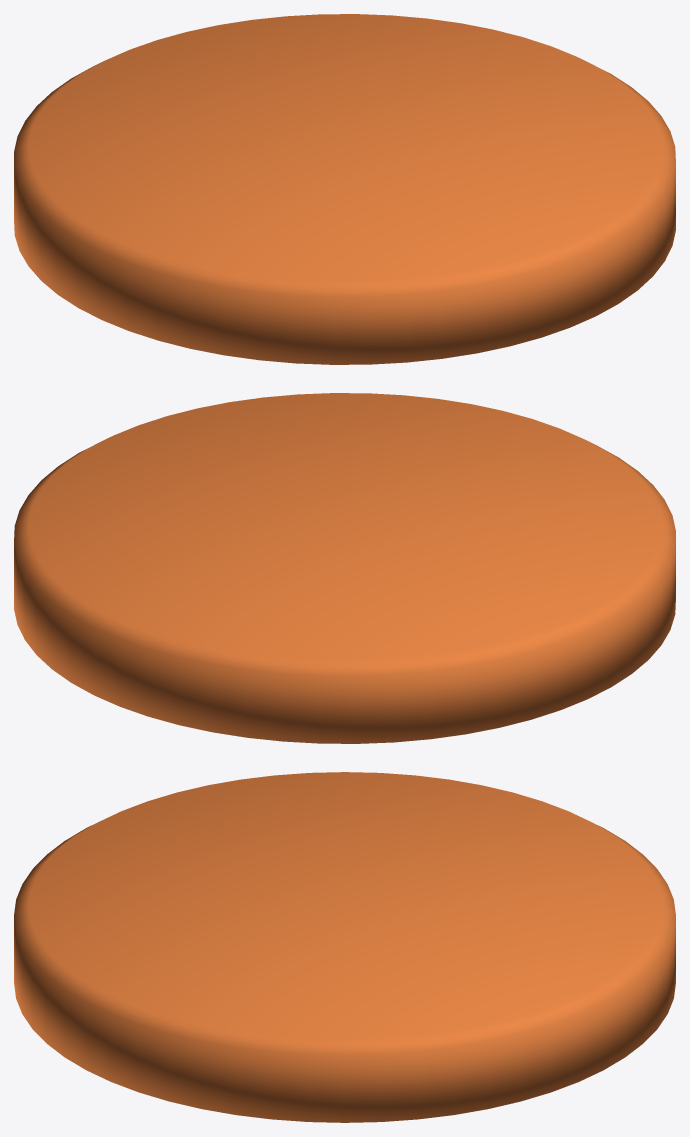
The model's file is press.glb.
3 renders of one model, top to bottom at view 1: azimuth 30°, elevation 25°; view 2: azimuth 150°, elevation 25°; view 3: azimuth 270°, elevation 25°, orthographic.
Visible parts, largest first — view 1: press; view 2: press; view 3: press.
Part boxes in pixels (bbox=[...]): press: bbox=[14, 14, 675, 364]; press: bbox=[14, 393, 675, 743]; press: bbox=[14, 772, 675, 1122].
Bounding box in the file's own units: 0.031 × 0.004 × 0.031.
